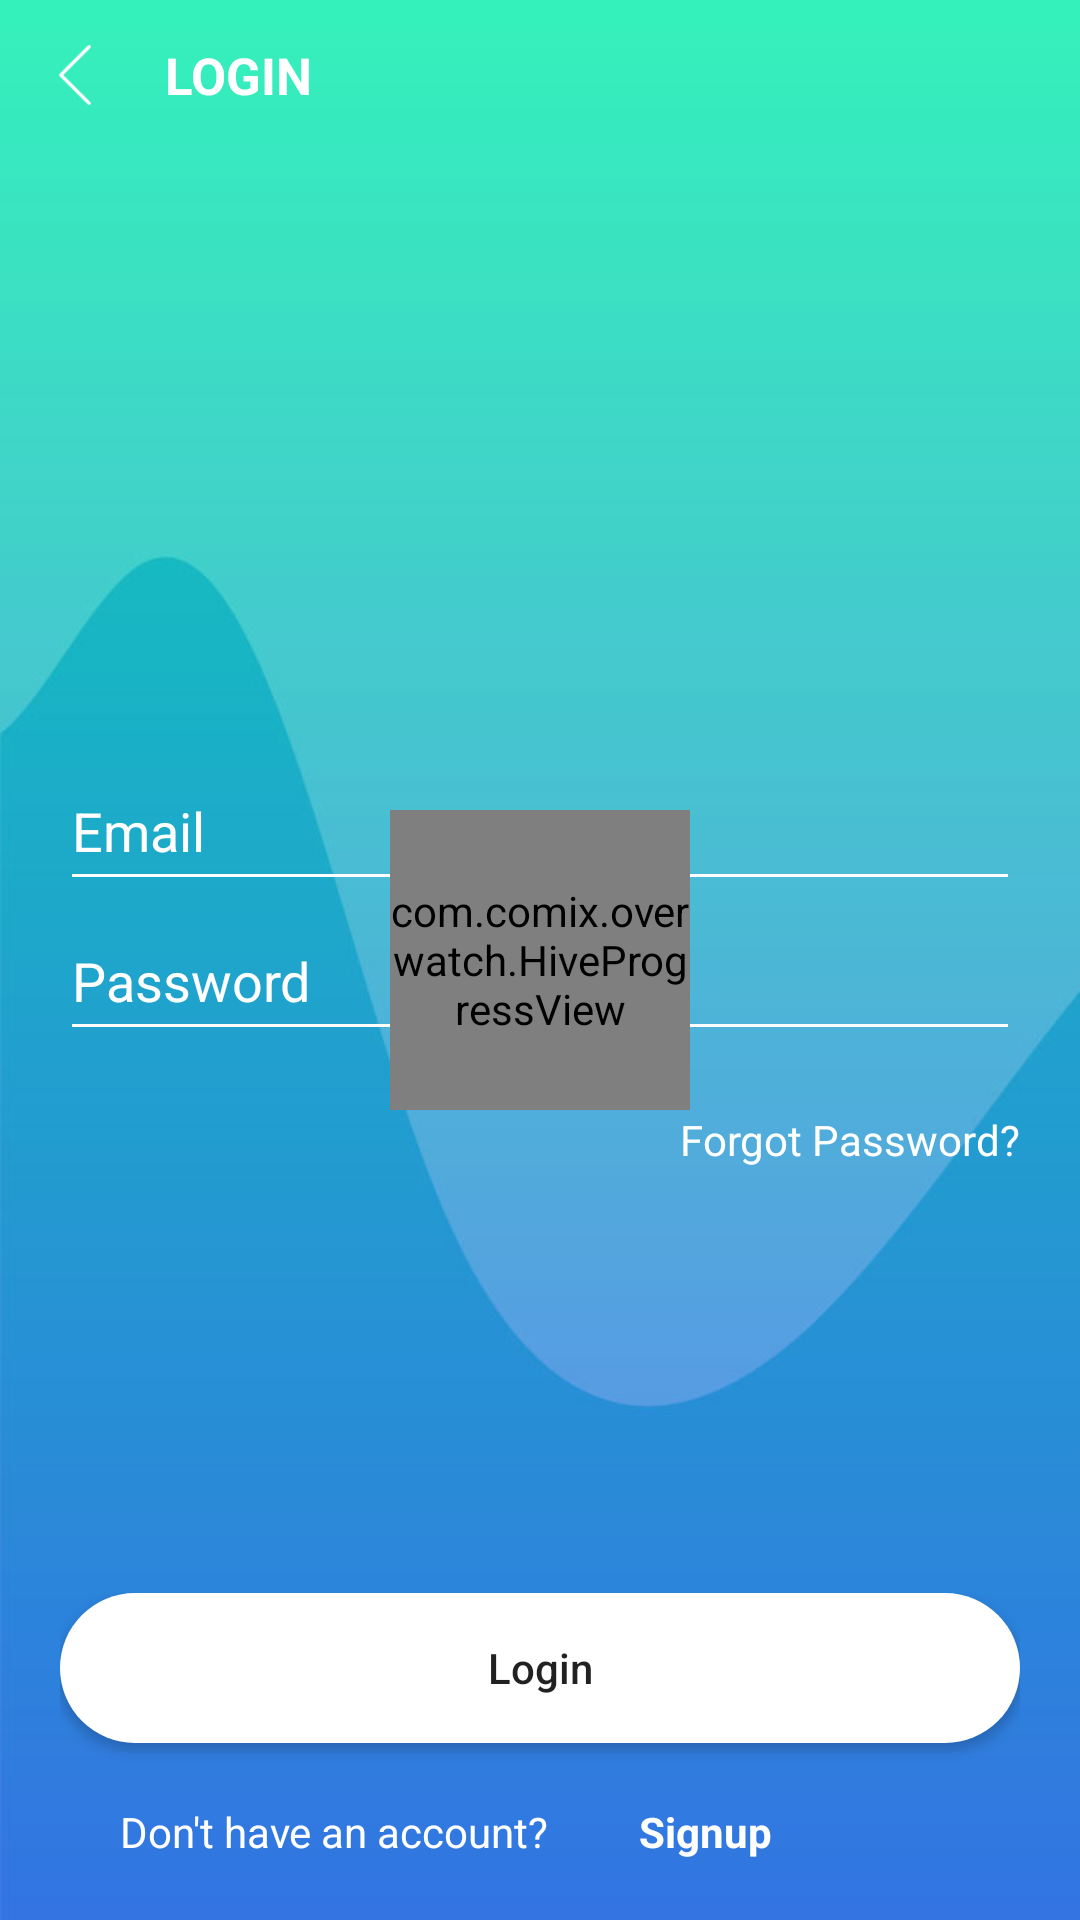

Screen size 1080×1920. Icon name, then its box in pixels as region(x1, y1, x2, y2):
whiteback: region(59, 45, 91, 105)
